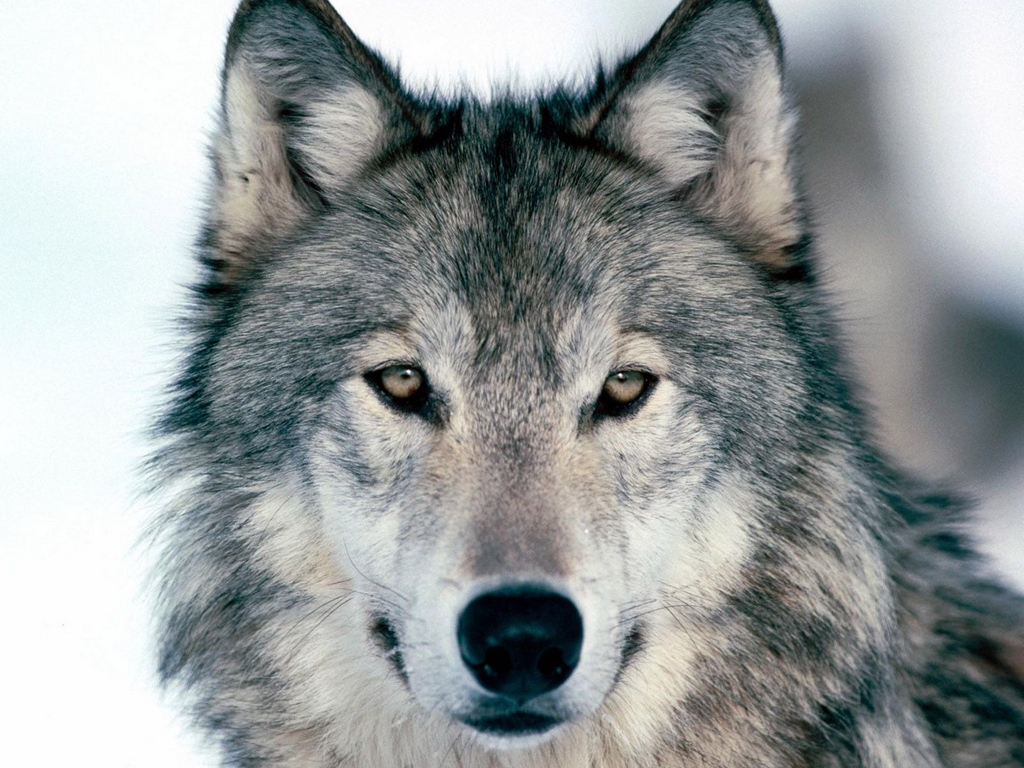wolf: (128, 1, 1024, 766)
